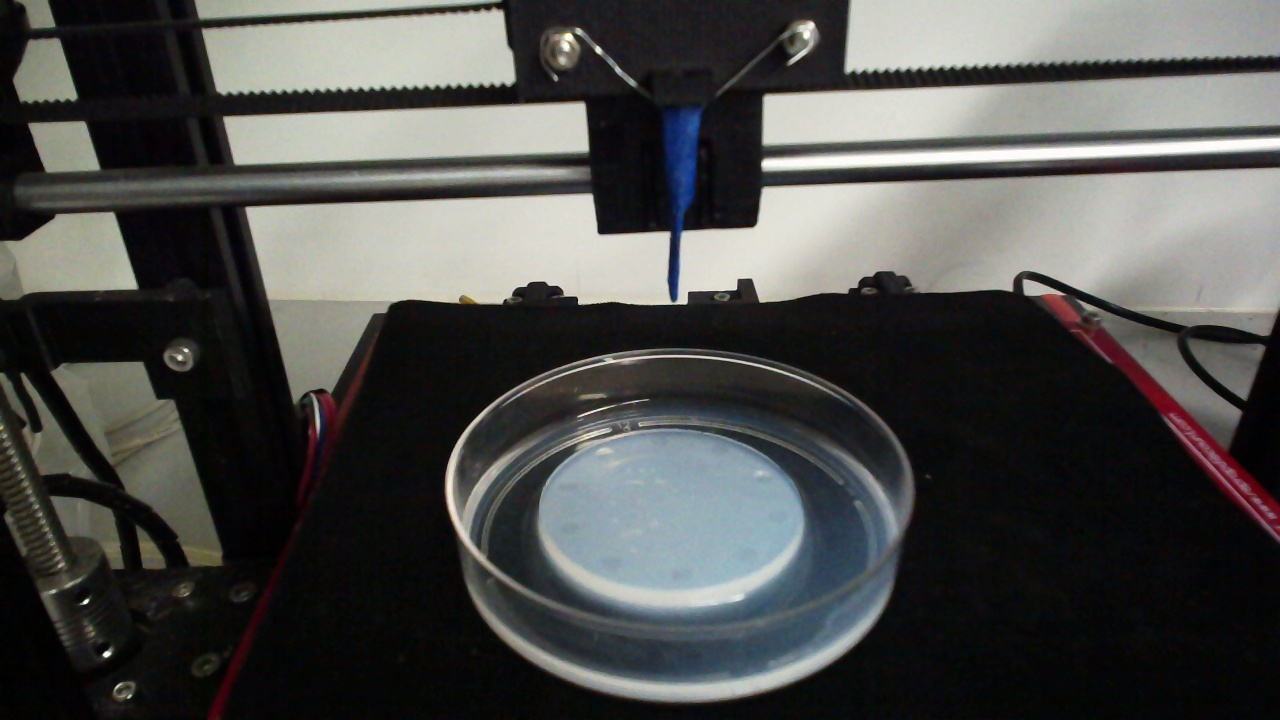groove: (733, 544, 758, 566), (764, 505, 788, 527), (666, 567, 694, 585), (597, 554, 623, 572), (556, 477, 580, 495), (648, 431, 670, 449), (709, 443, 732, 460), (594, 444, 615, 462), (556, 520, 579, 536), (752, 469, 774, 484)
needle: (668, 108, 702, 301)
